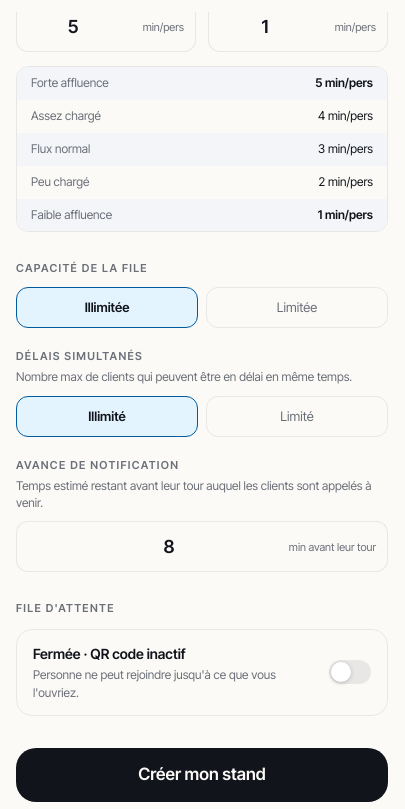
Test case: ScreenVendorSetup › shows delay NumberField after clicking Limité (from unlim state)
(page scrolled)
Expected: the text "délais max" is not shown
Click the button "Limité". click: (297,417)
box: [206,396,388,437]
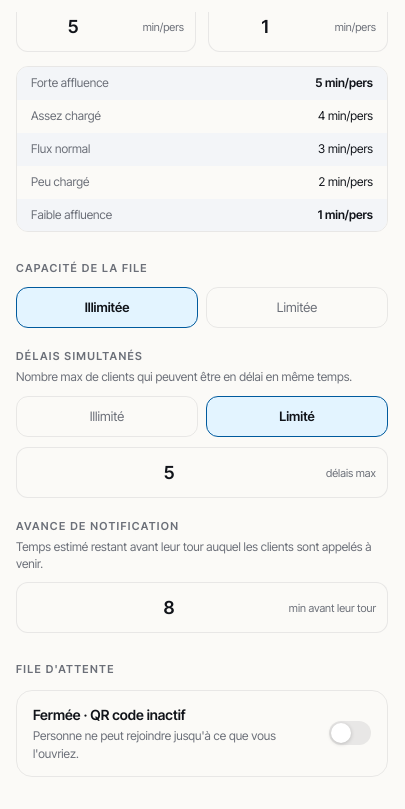
Expected: the text "délais max" is shown, [326,464,376,481]
